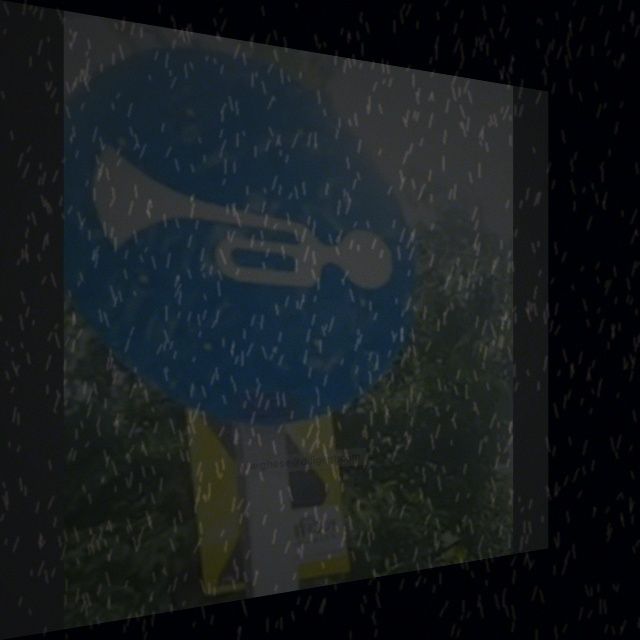Compulsory_Sound_Horn: (78, 70, 398, 366)
